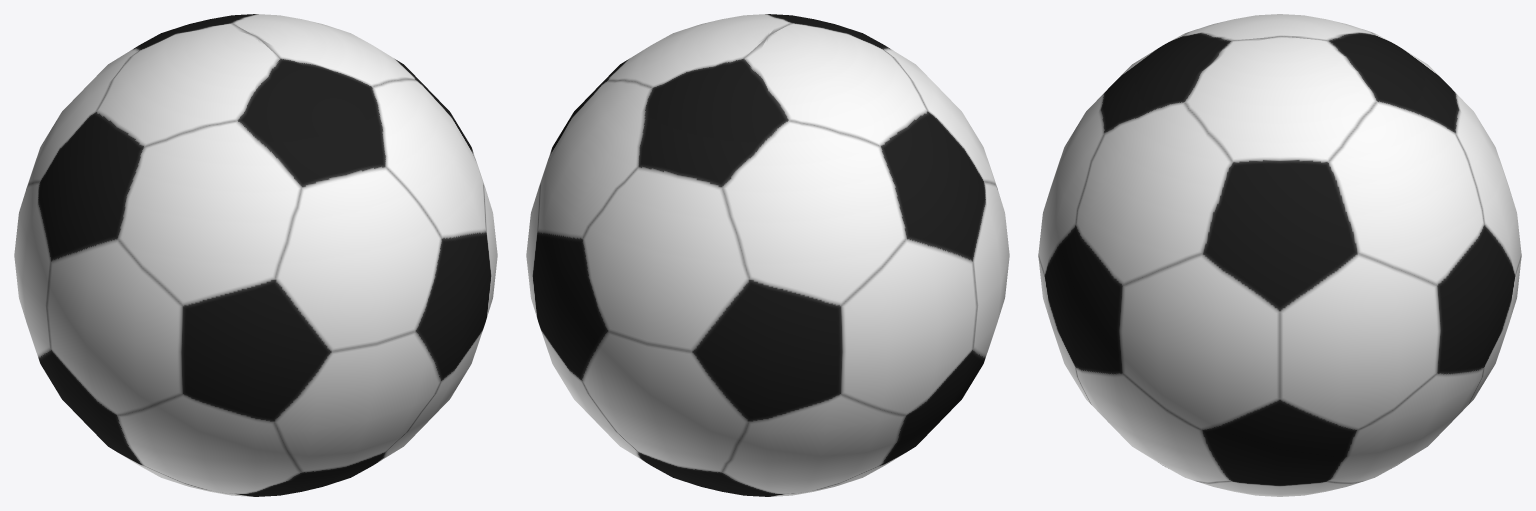
The model's file is physicar_ball.dae.
The picture shows the model from 3 angles, left to right: view 1: azimuth 30°, elevation 25°; view 2: azimuth 150°, elevation 25°; view 3: azimuth 270°, elevation 25°; orthographic projection.
Parts seen in each view (by area): view 1: physicar_ball; view 2: physicar_ball; view 3: physicar_ball.
Part boxes in pixels (box(x1,y1,x2,y2)): physicar_ball: box(14, 14, 497, 496); physicar_ball: box(526, 14, 1009, 496); physicar_ball: box(1038, 14, 1521, 496).
Bounding box in the file's own units: 0.22 × 0.22 × 0.22.
Materials: 1 (1 with a texture image).
